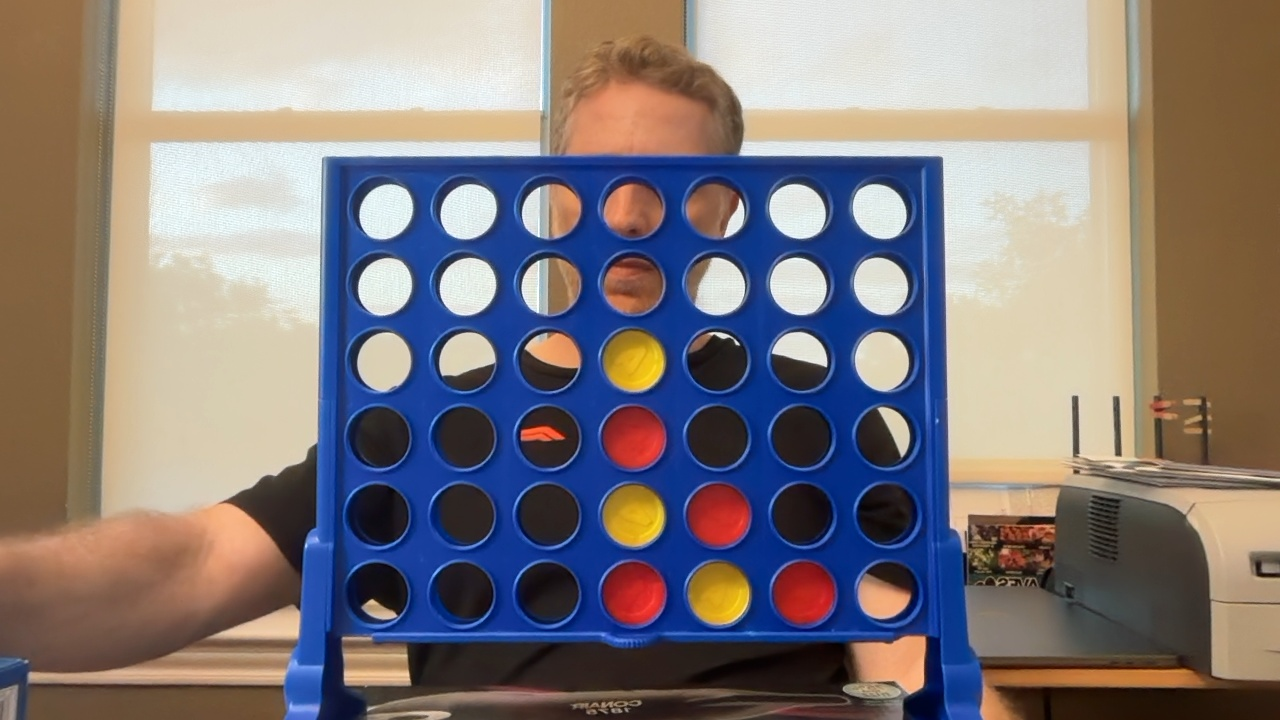red piece: (602, 561, 666, 626), (772, 561, 835, 627), (686, 483, 750, 547), (602, 405, 665, 469)
yellow piece: (687, 561, 750, 626), (602, 484, 665, 547), (602, 330, 665, 391)
